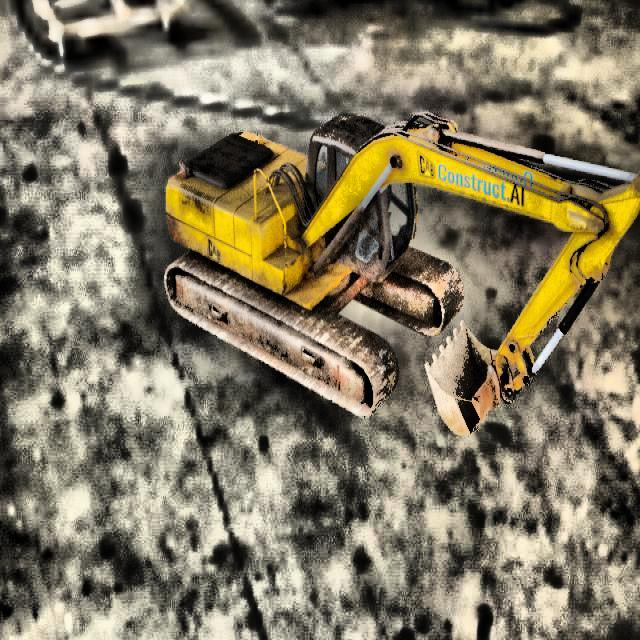excavator: (163, 111, 640, 435)
